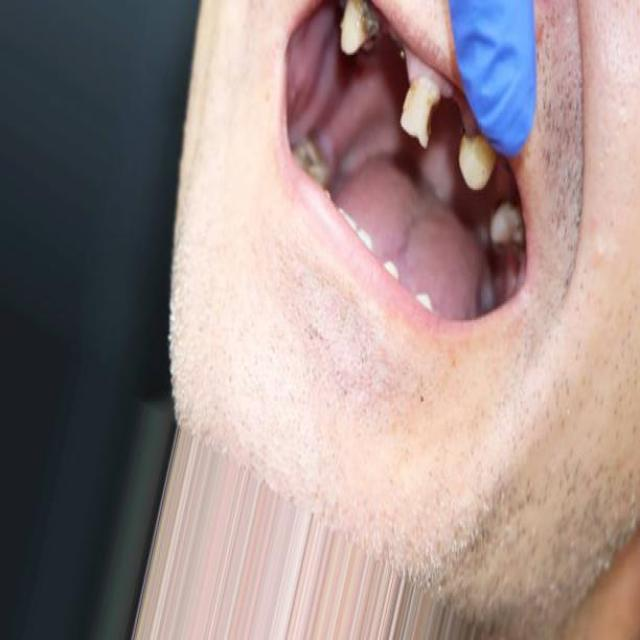caries: (397, 64, 448, 156), (331, 0, 386, 68), (293, 136, 327, 182)
